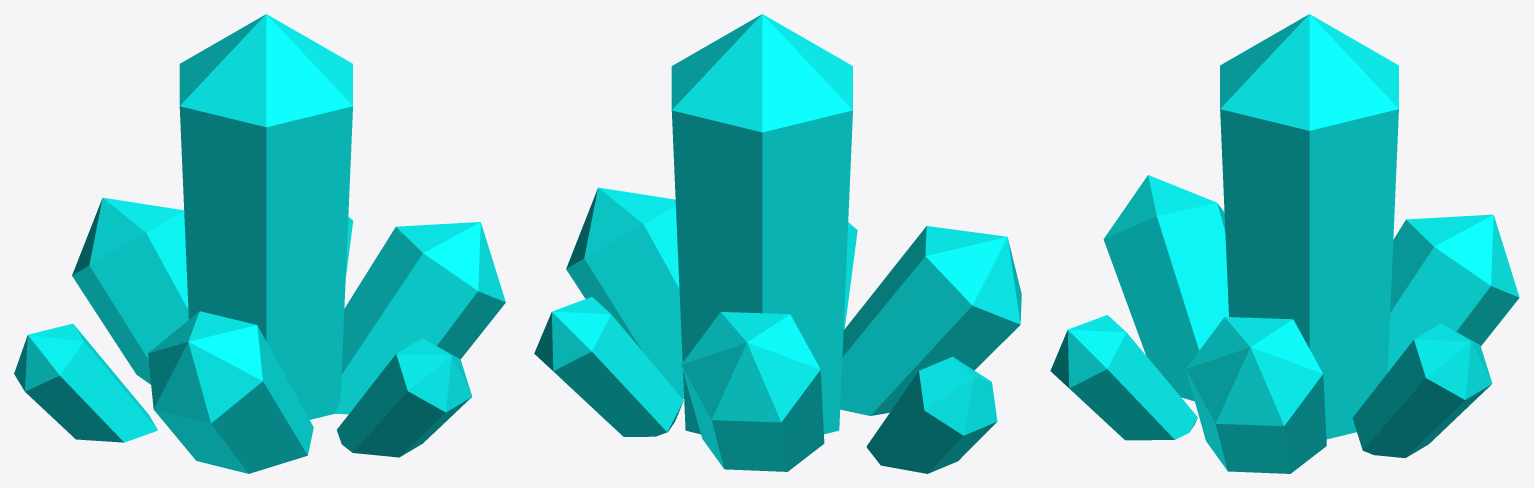
The model's file is alchemica_crystal_alpha.fbx.
3 renders of one model, left to right at view 1: azimuth 30°, elevation 25°; view 2: azimuth 150°, elevation 25°; view 3: azimuth 270°, elevation 25°, orthographic. The views are drawn at different scales.
Parts seen in each view (by area): view 1: Alchemica_Crystal_ALPHA; view 2: Alchemica_Crystal_ALPHA; view 3: Alchemica_Crystal_ALPHA.
Part boxes in pixels (x1,y1,x2,y2): Alchemica_Crystal_ALPHA: [14, 14, 505, 473]; Alchemica_Crystal_ALPHA: [534, 14, 1021, 473]; Alchemica_Crystal_ALPHA: [1050, 14, 1519, 473].
Size of the model in its own units: 2.11 by 1.77 by 1.92.
